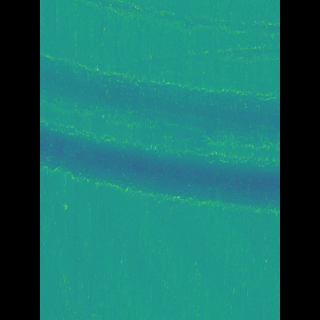Loch: (70, 52, 249, 215), (109, 0, 250, 43)
